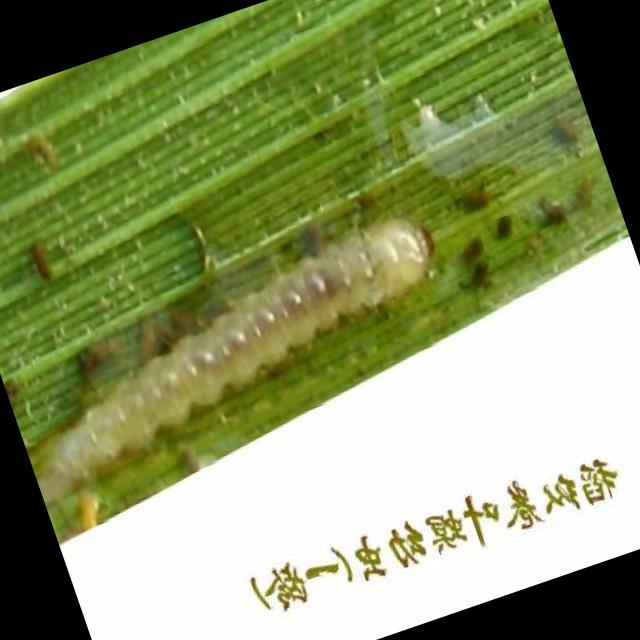leaf-folder: (0, 169, 475, 524)
